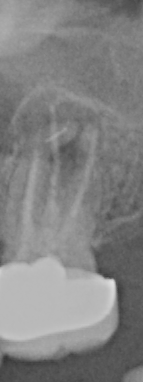fracture: (41, 124, 67, 144)
